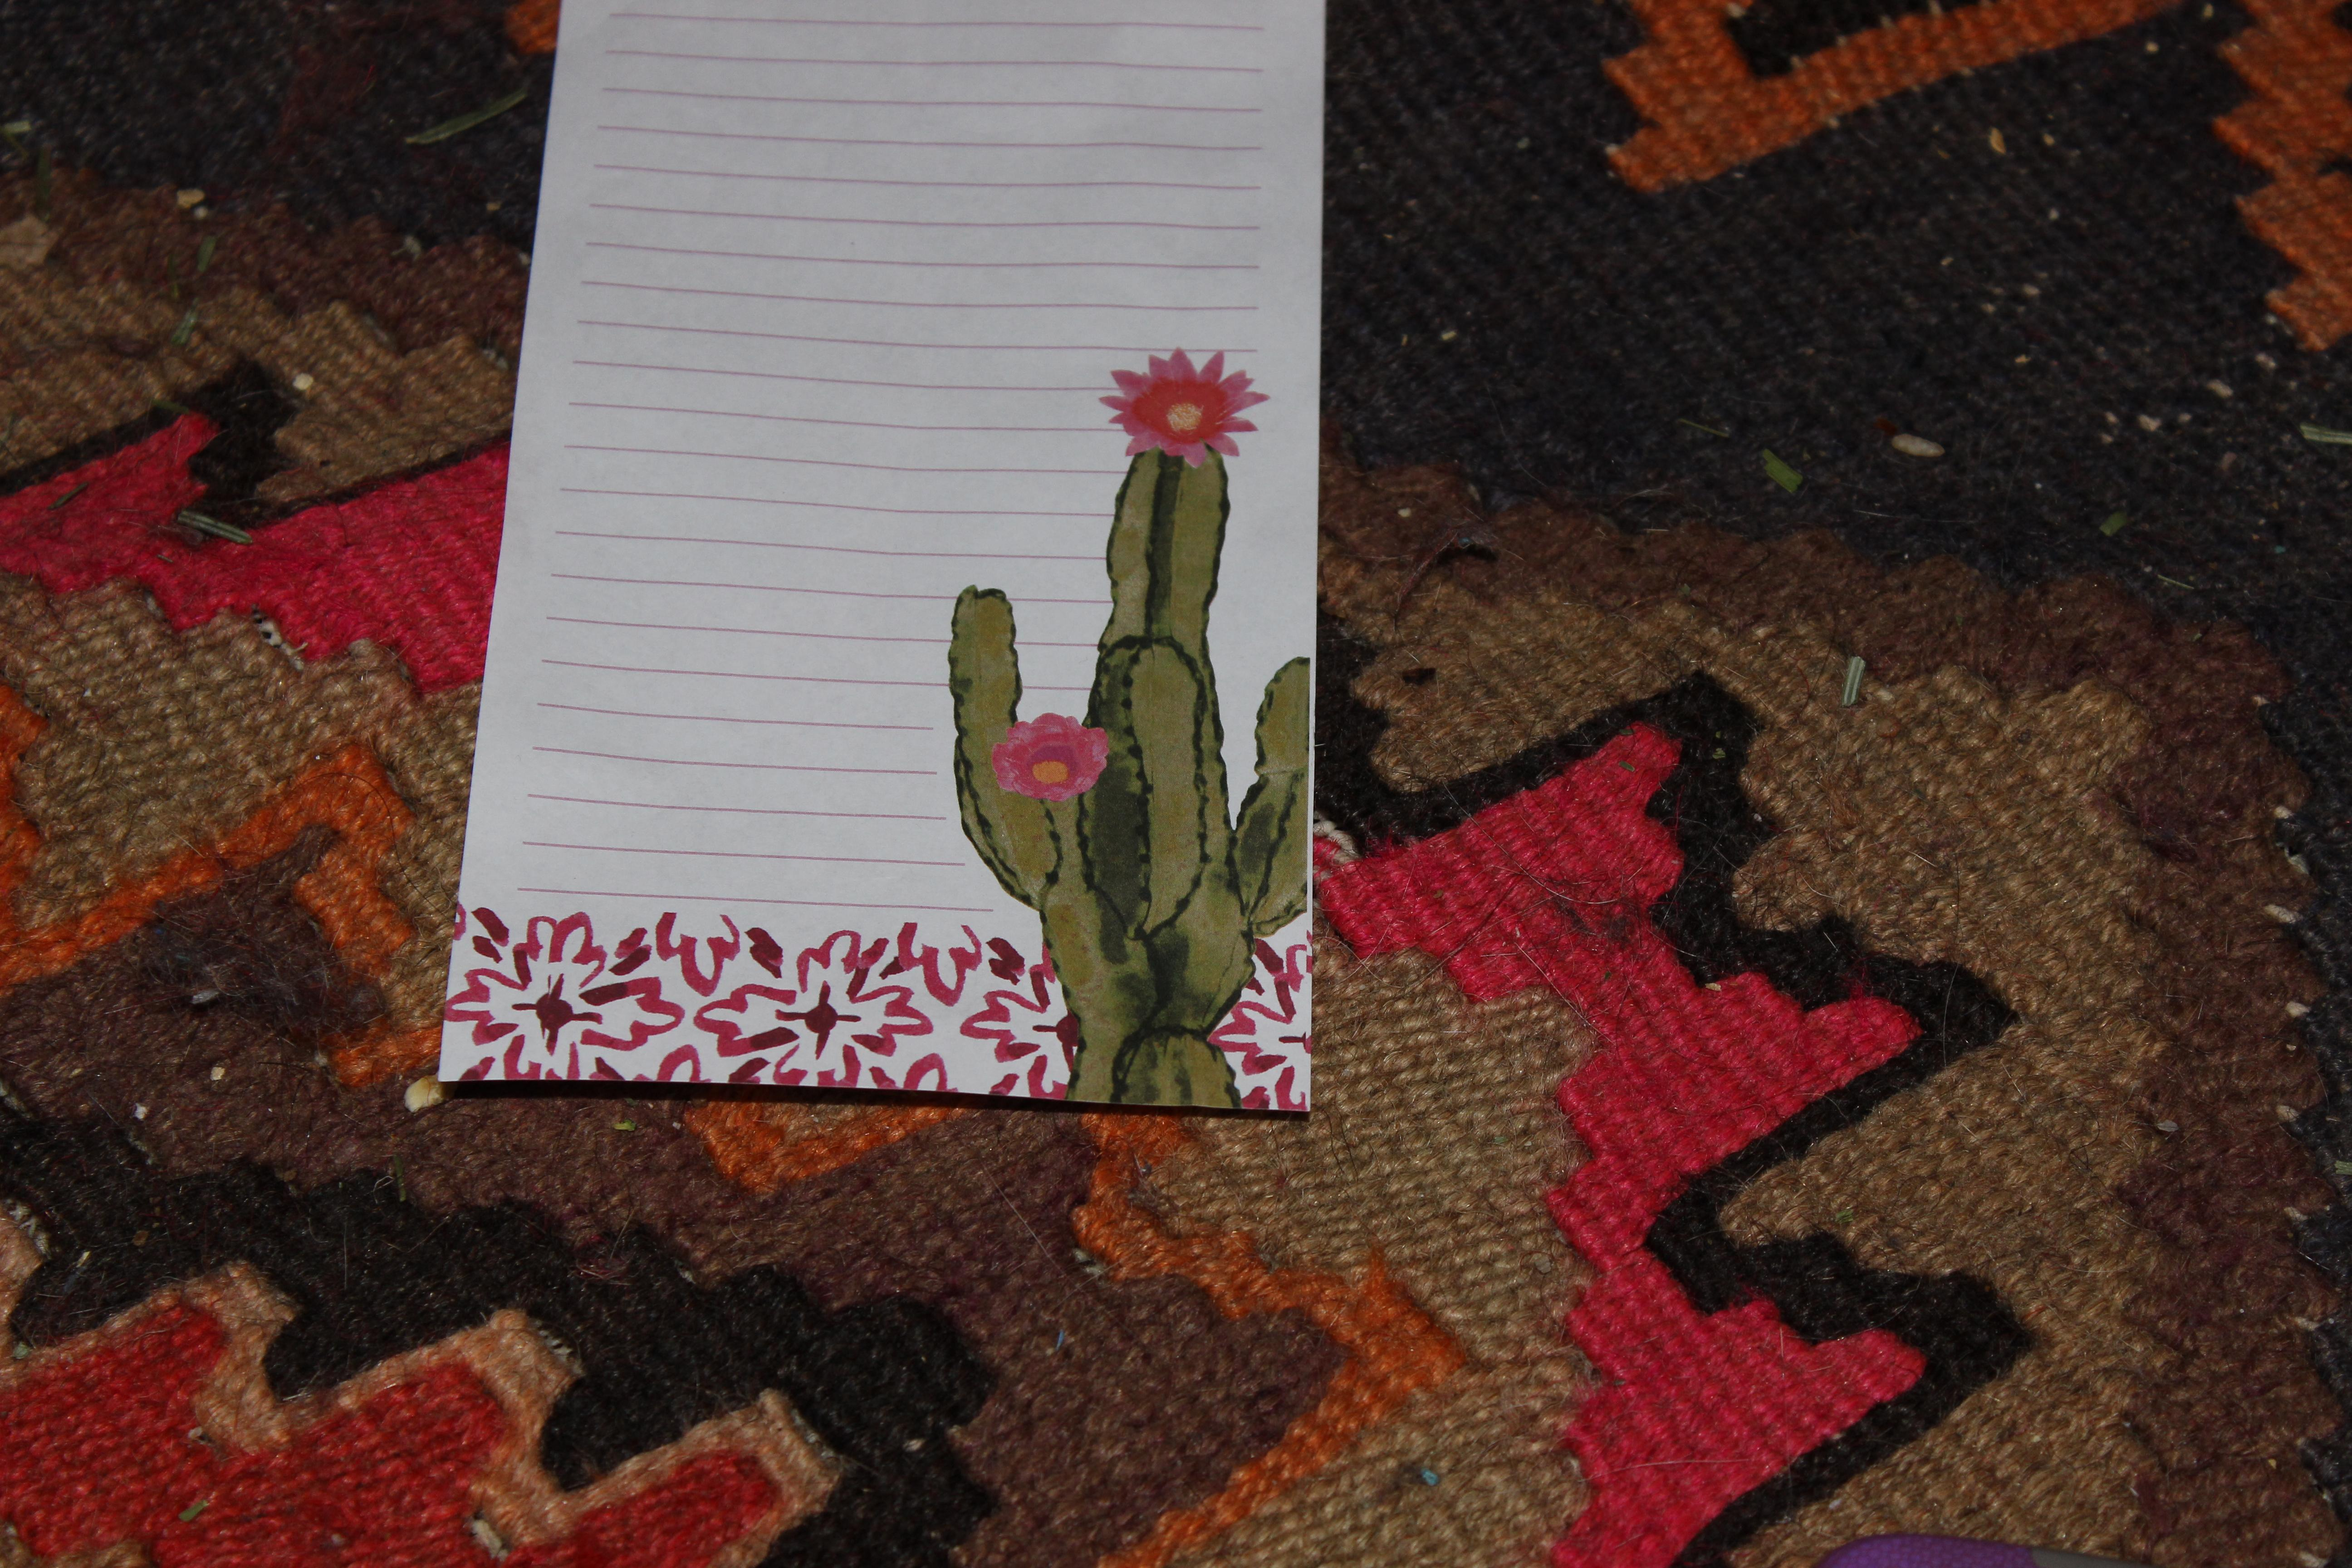cactusPaper: (409, 2, 1365, 1143)
